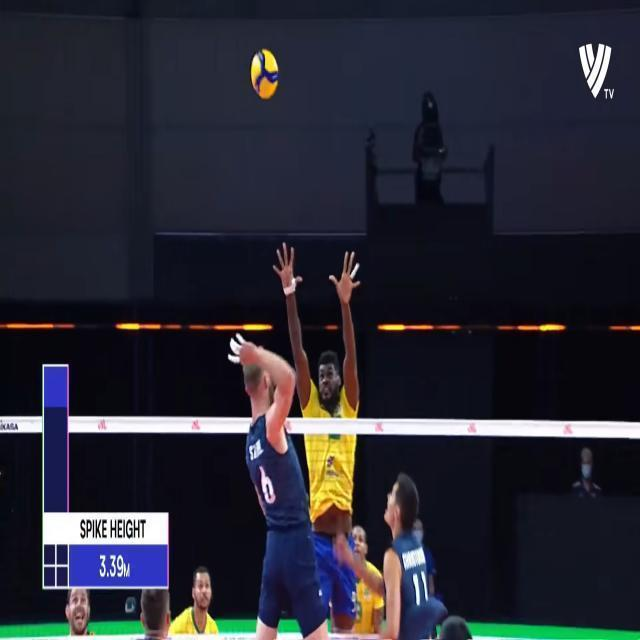volleyball: (250, 48, 278, 98)
